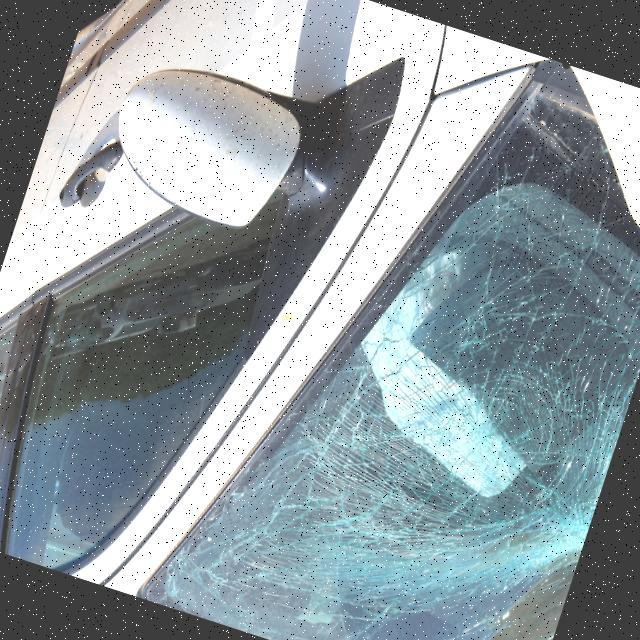Windshield: (174, 89, 640, 640)
